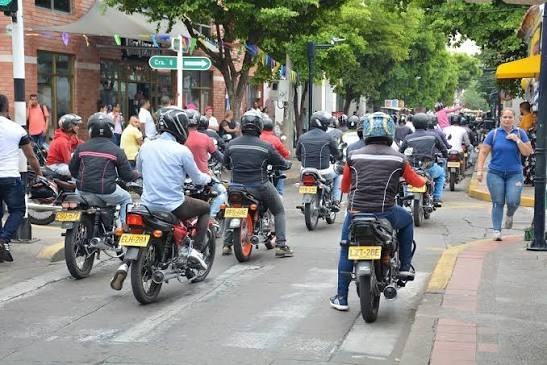car: (122, 142, 220, 303), (330, 171, 419, 316), (116, 192, 205, 306), (336, 209, 409, 321), (56, 179, 127, 279), (223, 159, 294, 258), (393, 149, 440, 226), (299, 170, 340, 229), (411, 159, 445, 224), (396, 118, 445, 159), (27, 172, 68, 218)
